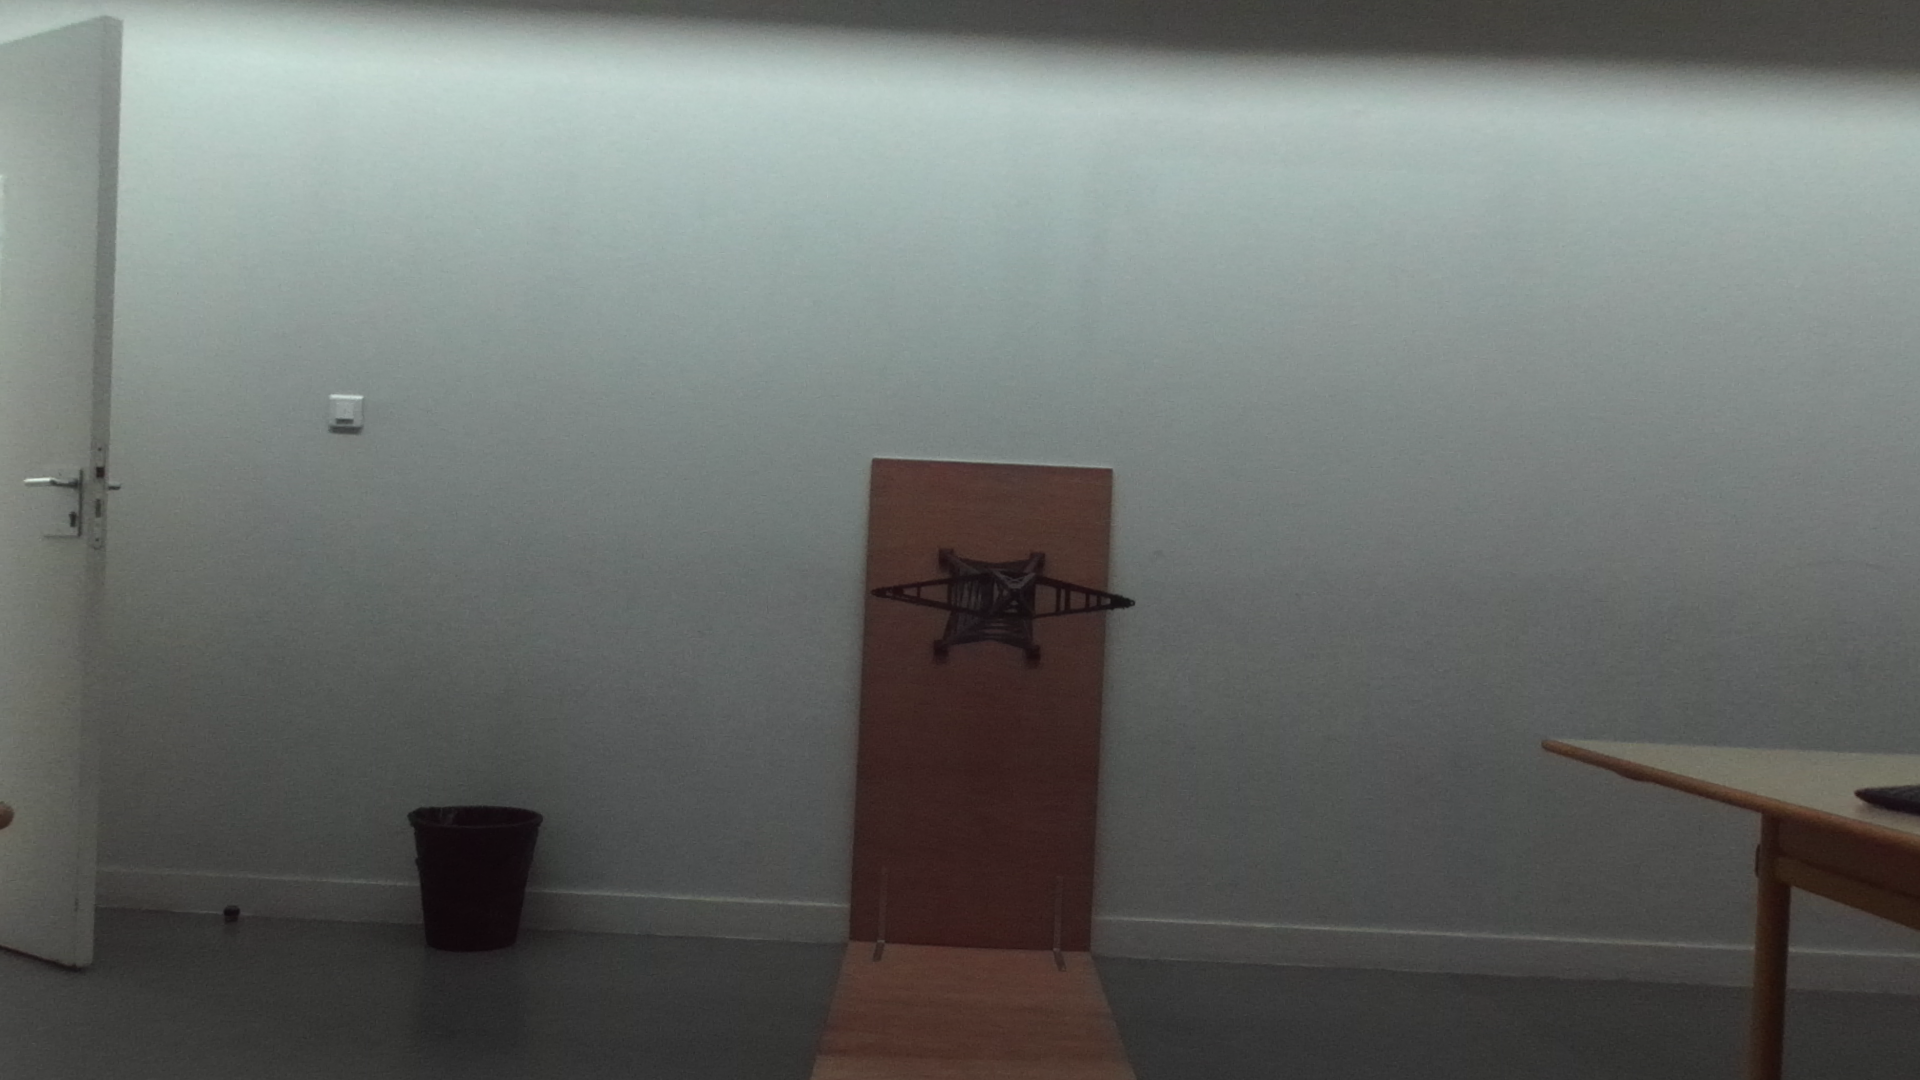pylon_phy: (884, 571, 1135, 620)
